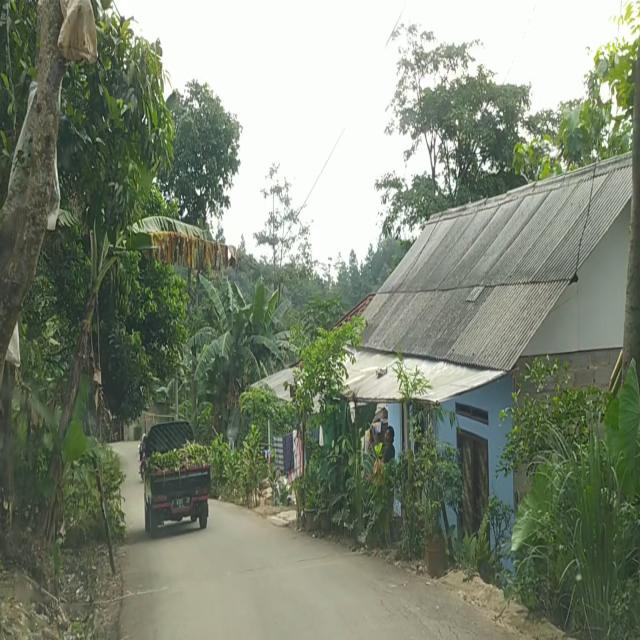Drain Hole: (402, 593, 476, 638)
Sewer Cover: (234, 550, 348, 572)
